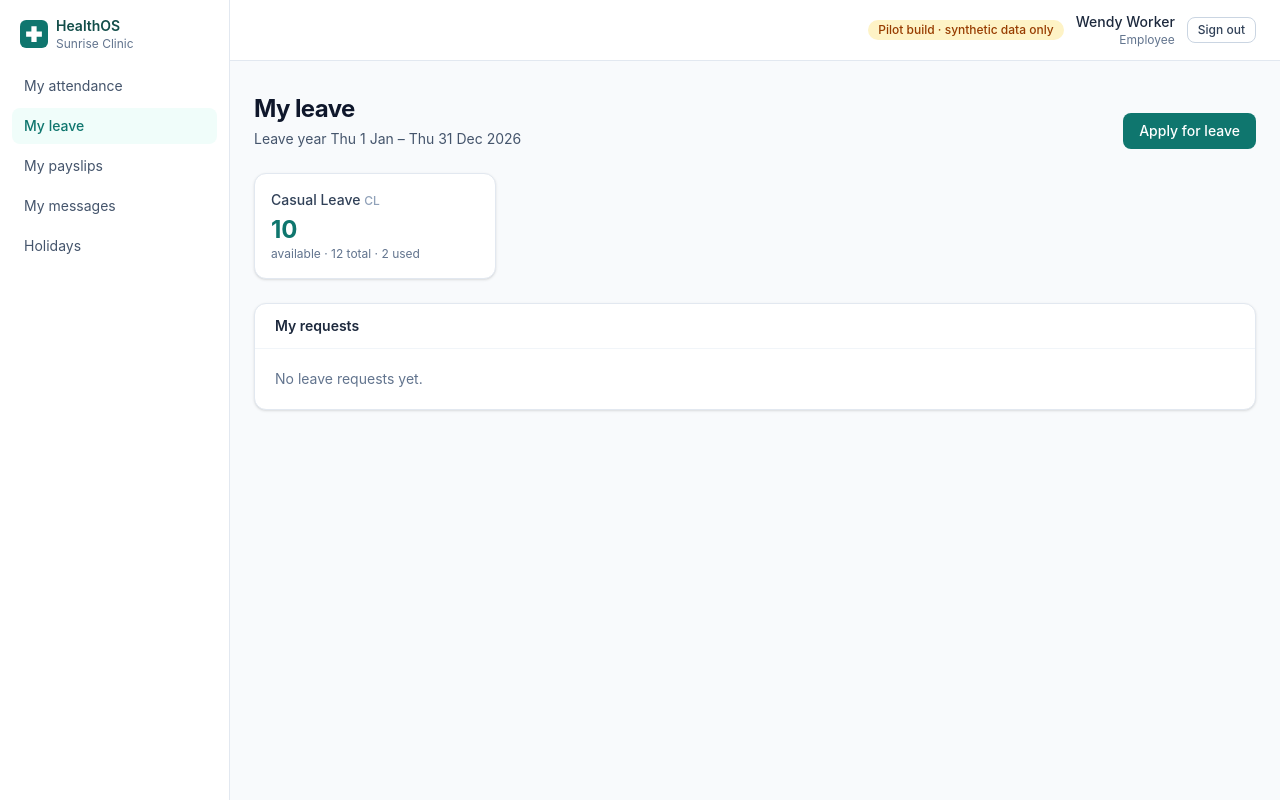
Test: My leave › shows balances, previews the days and sends the request
Later steps or results of the test are not shown.
Check: the text "10" is shown, box [271,215,298,244]
Click the button "Apply for leave" at (1190, 131), box [1123,113,1256,149]
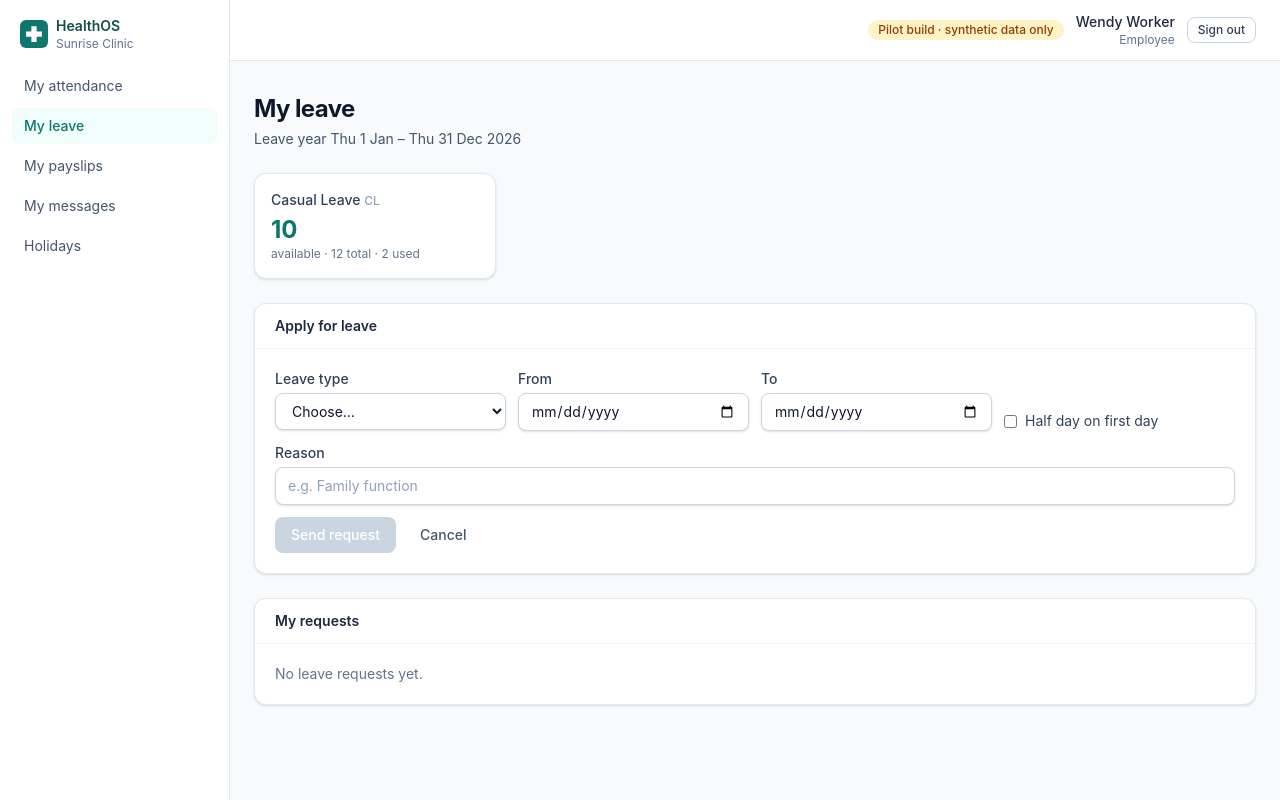
Select "Casual Leave" in the dropdown labelled "Leave type" at (390, 412), box [275,393,506,430]
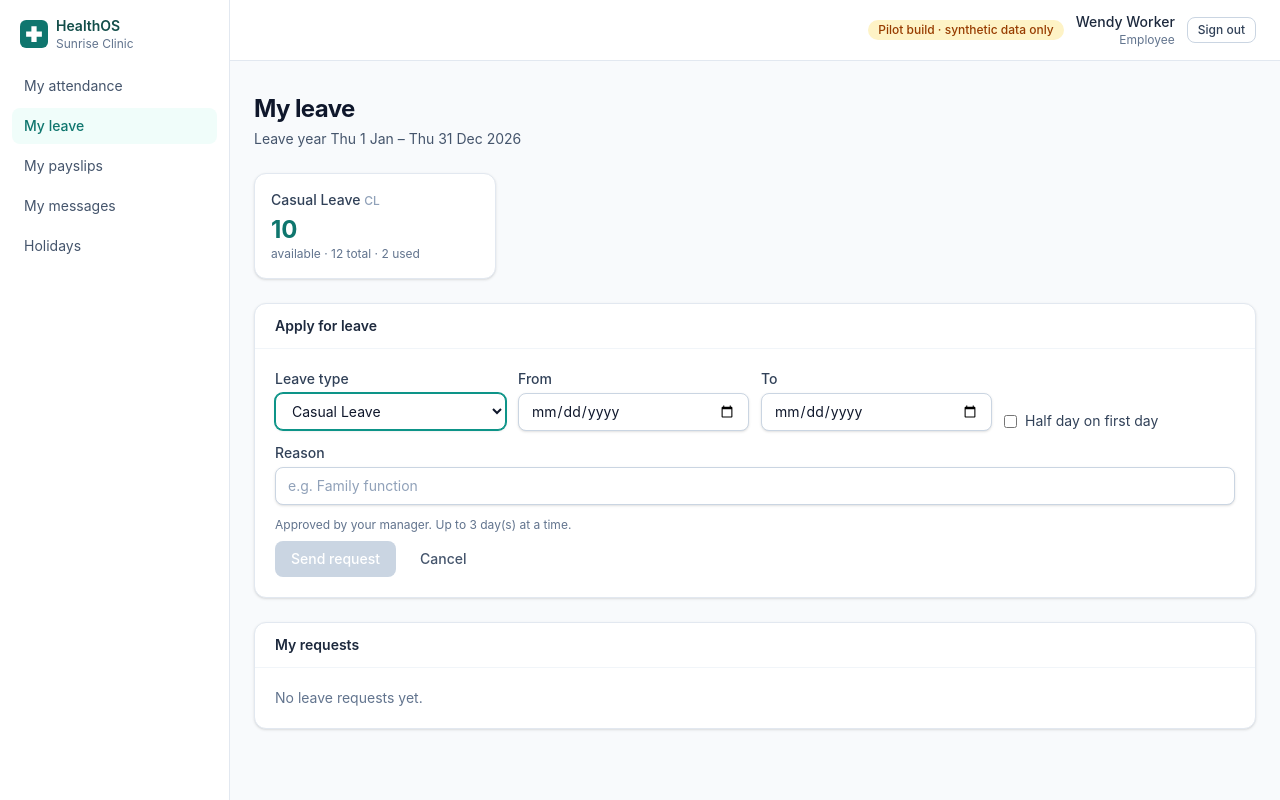
Type "2026-12-01" into the date field labelled "From" at (634, 412), box [518,393,749,431]
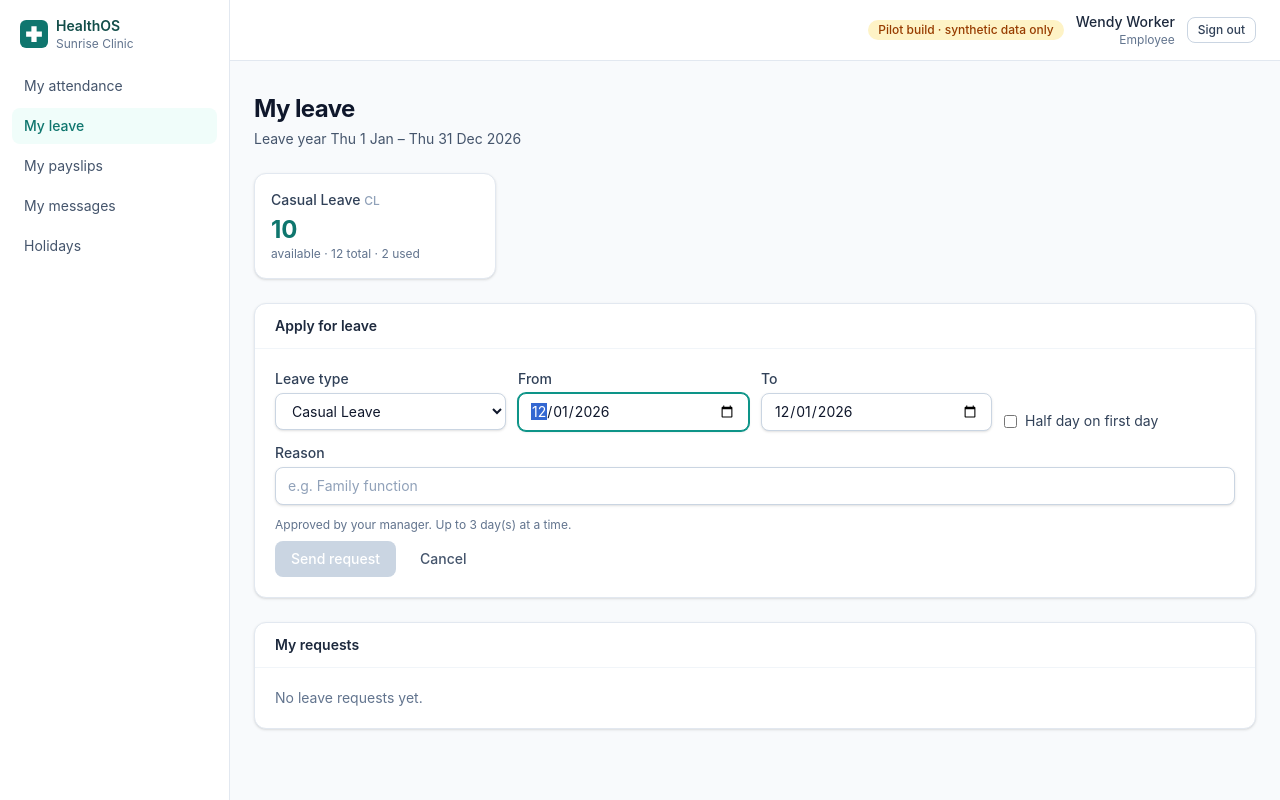
Type "2026-12-02" into the date field labelled "To" at (876, 412), box [761,393,992,431]
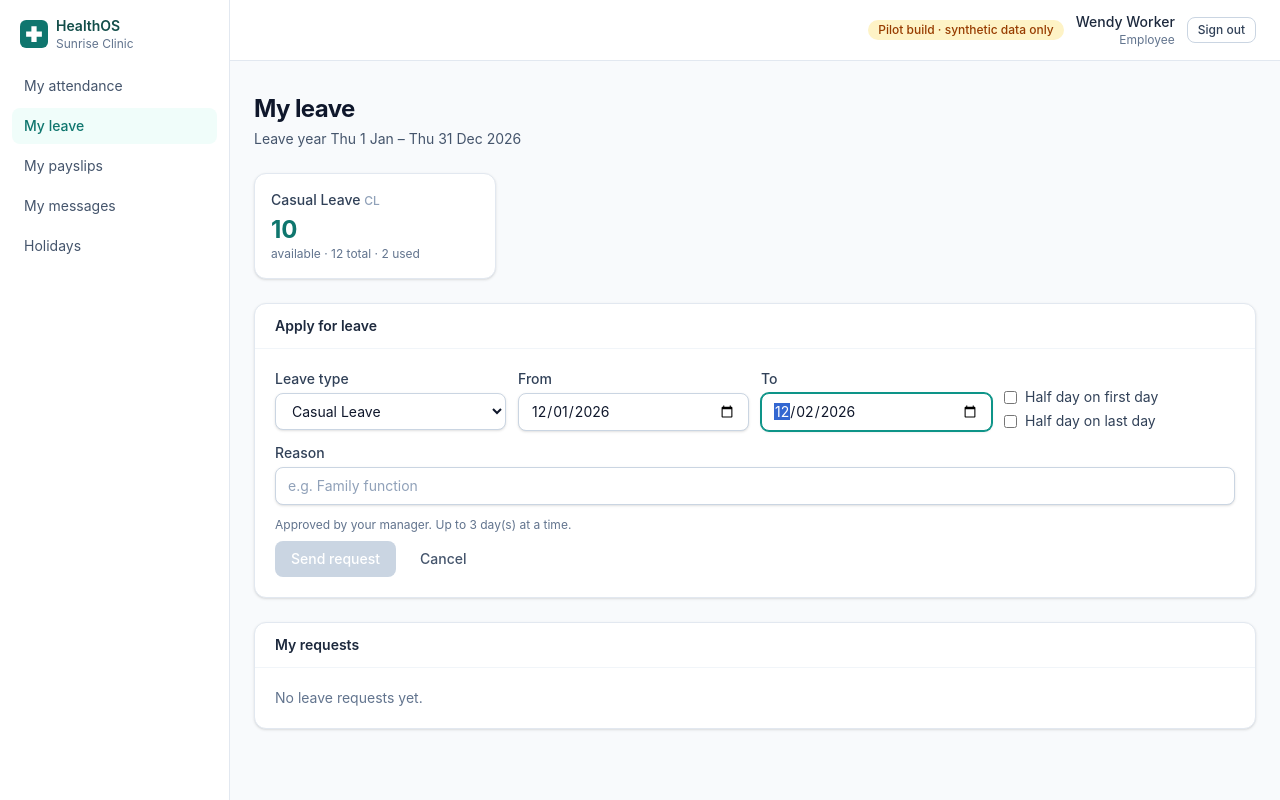
Type "Family function" into the field labelled "Reason" at (755, 486), box [275,467,1235,505]
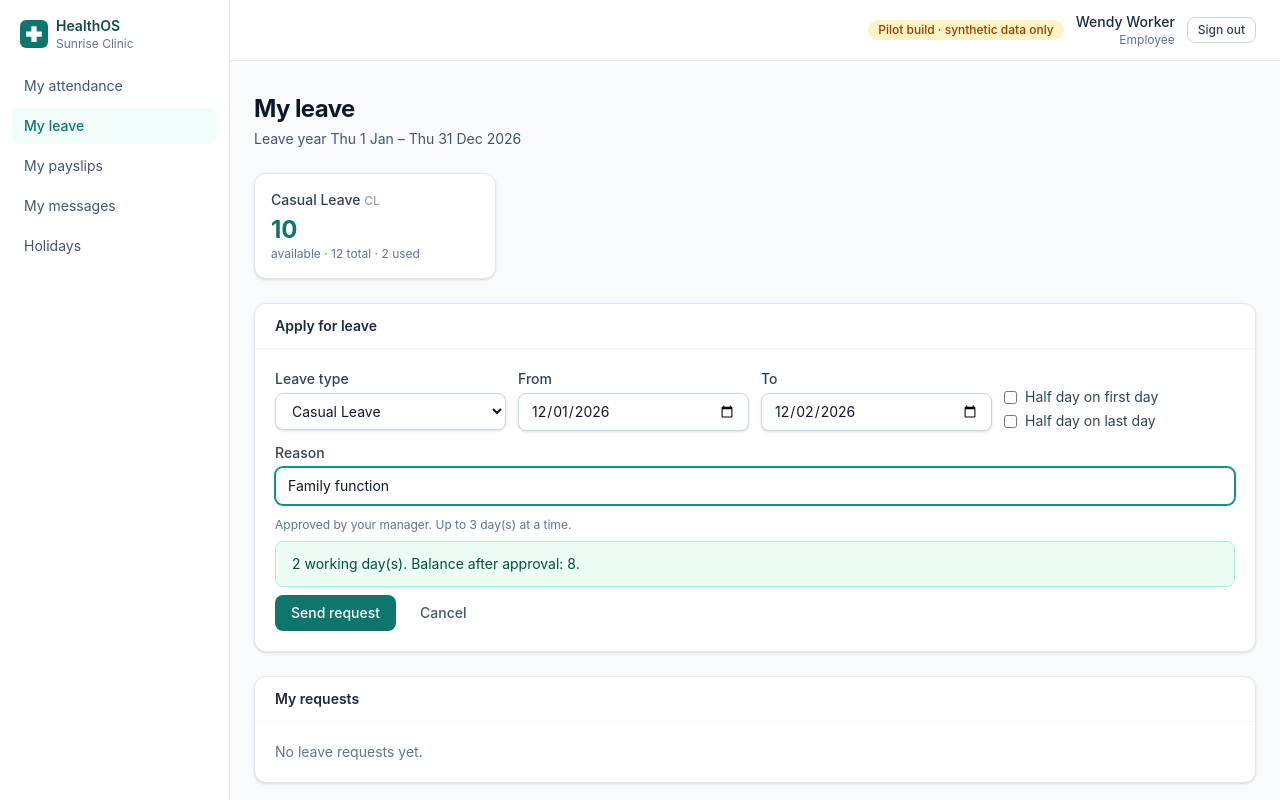
Check: the text "2 working day(s). Balance after approval: 8." is shown, box [275,541,1235,587]
